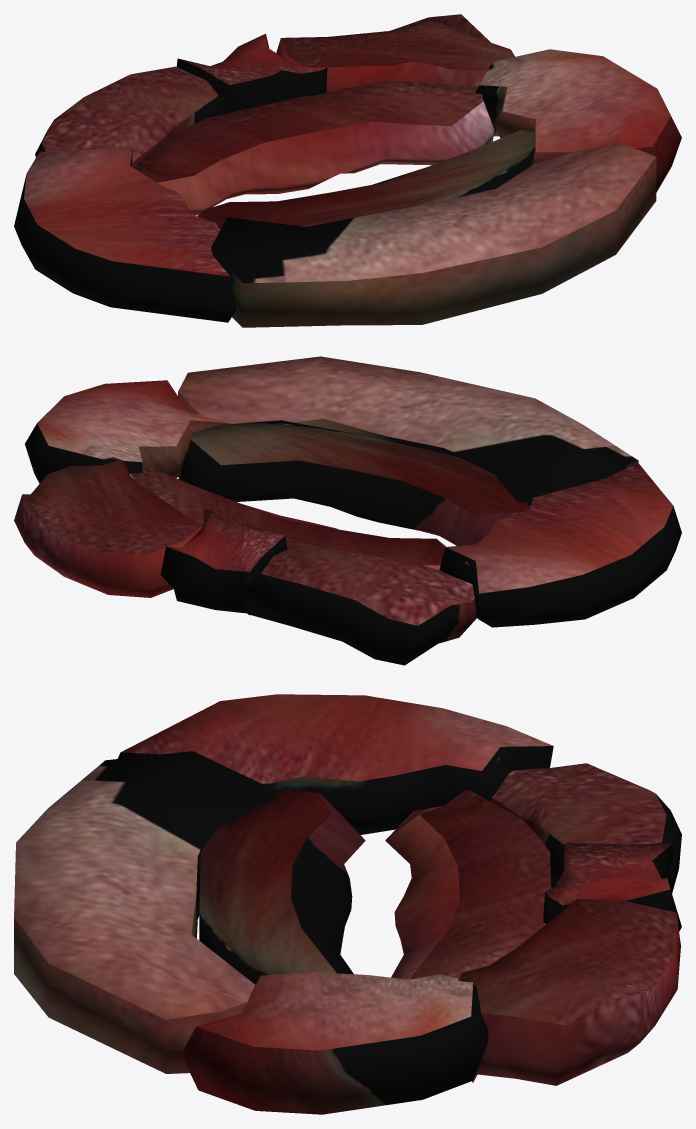
The model's file is stamota.fbx.
The picture shows the model from 3 angles, top to bottom: view 1: azimuth 30°, elevation 25°; view 2: azimuth 150°, elevation 25°; view 3: azimuth 270°, elevation 25°; orthographic projection. The views are drawn at different scales.
Parts seen in each view (by area): view 1: pCube15, pCube19, pCube16, pCube17, pPlane3, pCube18, pPlane5, pPlane4; view 2: pCube15, pCube18, pCube16, pPlane5, pPlane3, pCube17, pPlane4, pCube19; view 3: pCube15, pCube17, pCube16, pPlane3, pCube18, pCube19, pPlane5, pPlane4.
Part boxes in pixels (x1,y1,x2,y2): pCube15: (211, 142, 656, 327); pCube19: (134, 80, 494, 215); pCube16: (14, 147, 236, 322); pCube17: (475, 49, 681, 192); pPlane3: (276, 14, 514, 91); pCube18: (197, 129, 535, 230); pPlane5: (35, 66, 227, 167); pPlane4: (176, 33, 327, 113); pCube15: (178, 356, 638, 506); pCube18: (178, 420, 530, 545); pCube16: (439, 463, 681, 627); pPlane5: (245, 546, 477, 665); pPlane3: (14, 456, 201, 597); pCube17: (25, 380, 229, 483); pPlane4: (160, 509, 287, 615); pCube19: (130, 468, 446, 569); pCube15: (14, 751, 275, 1073); pCube17: (181, 972, 488, 1114); pCube16: (117, 694, 553, 834); pPlane3: (458, 899, 680, 1085); pCube18: (199, 789, 365, 984); pCube19: (385, 790, 550, 979); pPlane5: (490, 757, 681, 893); pPlane4: (543, 843, 681, 931).
Size of the model in its own units: 470 by 61.39 by 362.
